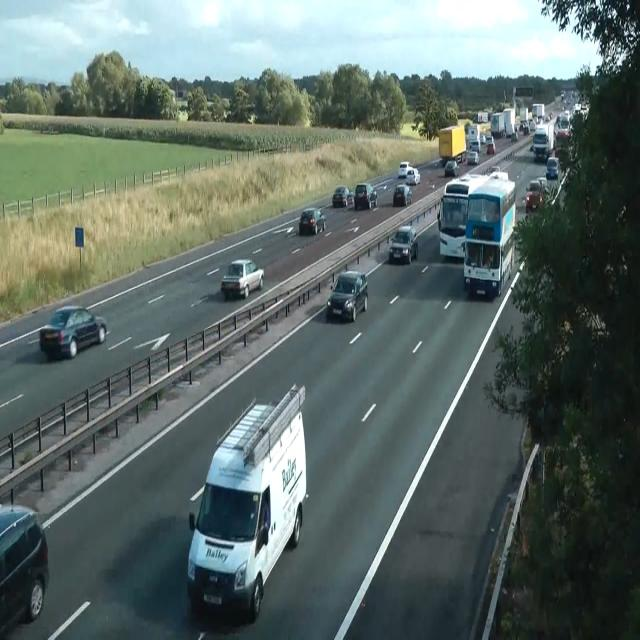bus: (0, 502, 49, 638), (39, 305, 107, 360), (327, 269, 368, 322), (220, 258, 264, 300), (389, 225, 418, 264), (298, 207, 326, 236), (332, 186, 353, 208), (392, 184, 412, 206), (546, 156, 560, 178), (444, 159, 458, 177), (406, 167, 420, 185), (397, 161, 411, 178), (467, 150, 479, 164), (469, 140, 479, 154), (510, 130, 518, 140)
car: (186, 382, 309, 620), (462, 169, 516, 299)
jeep: (353, 182, 377, 210), (525, 178, 544, 212)
minibus: (437, 172, 488, 260), (438, 125, 466, 167), (490, 108, 516, 138), (464, 122, 480, 154), (503, 108, 516, 138), (490, 112, 504, 138), (531, 103, 545, 125), (520, 107, 530, 134), (477, 111, 488, 123)
